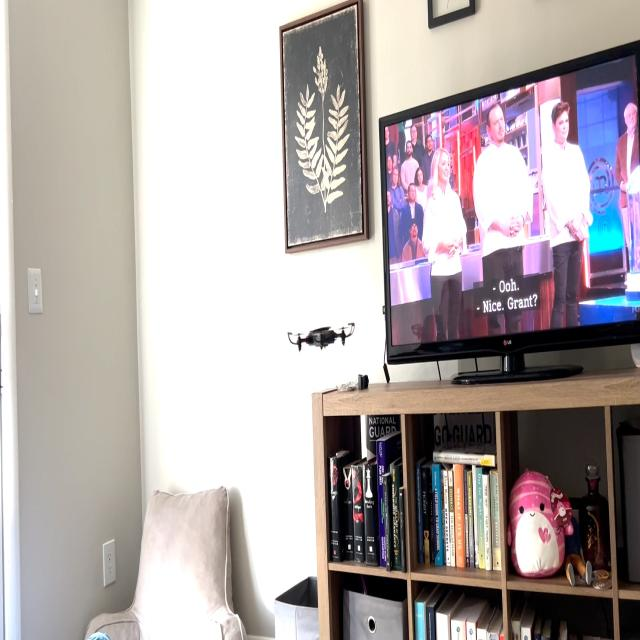drone: (280, 312, 360, 361)
